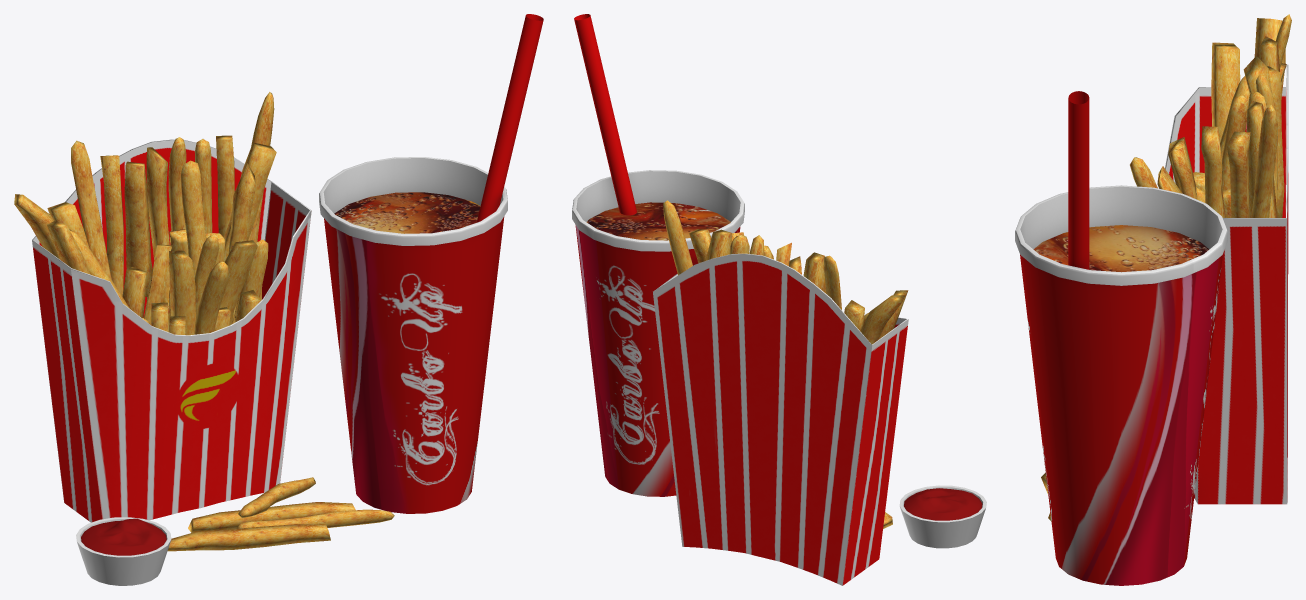
File: french-fries.glb
3 views of the same model, side by side, from view 1: azimuth 30°, elevation 25°; view 2: azimuth 150°, elevation 25°; view 3: azimuth 270°, elevation 25° (orthographic). The views are drawn at different scales.
Visible parts, largest first — view 1: french_frice_packet, coke, french_fries_set, jam; view 2: french_frice_packet, coke, jam; view 3: coke, french_frice_packet.
Part boxes in pixels (x1=…): french_frice_packet: x1=14, y1=92, x2=311, y2=522; coke: x1=319, y1=14, x2=543, y2=513; french_fries_set: x1=167, y1=477, x2=394, y2=551; jam: x1=76, y1=517, x2=171, y2=585; french_frice_packet: x1=653, y1=200, x2=908, y2=585; coke: x1=572, y1=14, x2=744, y2=496; jam: x1=899, y1=485, x2=986, y2=548; coke: x1=1015, y1=91, x2=1227, y2=585; french_frice_packet: x1=1130, y1=14, x2=1291, y2=504.
Size of the model in its own units: 0.306 by 0.2999 by 0.1449.
Materials: 1 (1 with a texture image).
